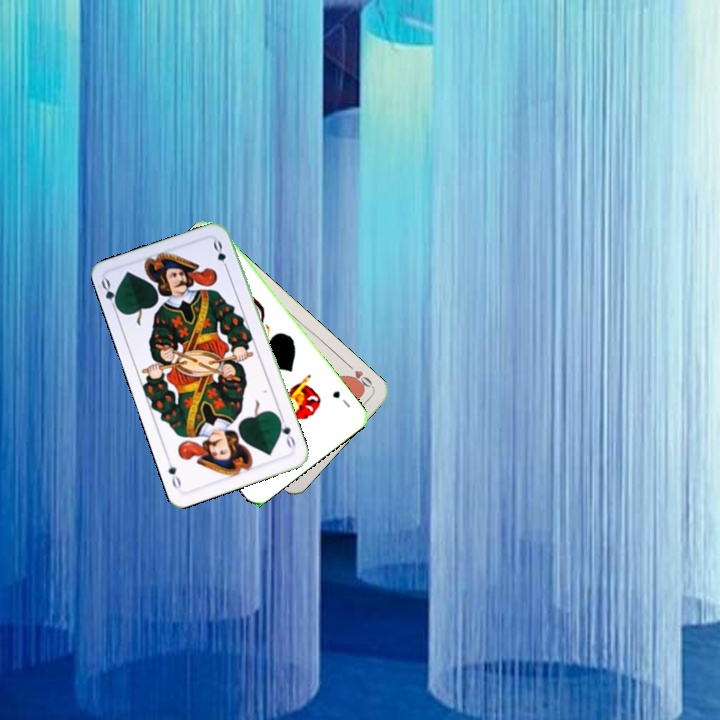GO: (97, 275, 123, 315), (275, 413, 298, 453)
GU: (328, 387, 353, 410)
HO: (342, 359, 376, 392)
